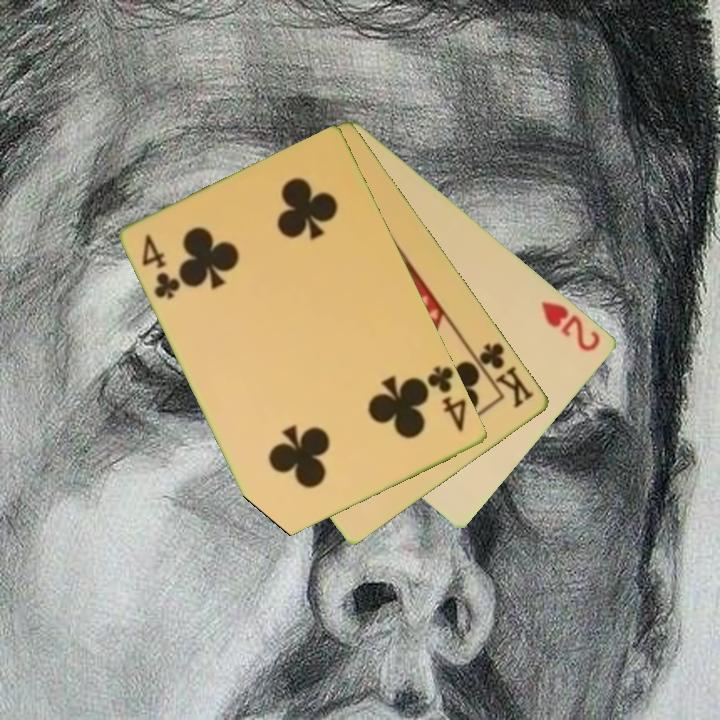2h: (537, 297, 604, 355)
4c: (424, 362, 470, 436), (139, 231, 184, 302)
Kc: (468, 339, 538, 412)
